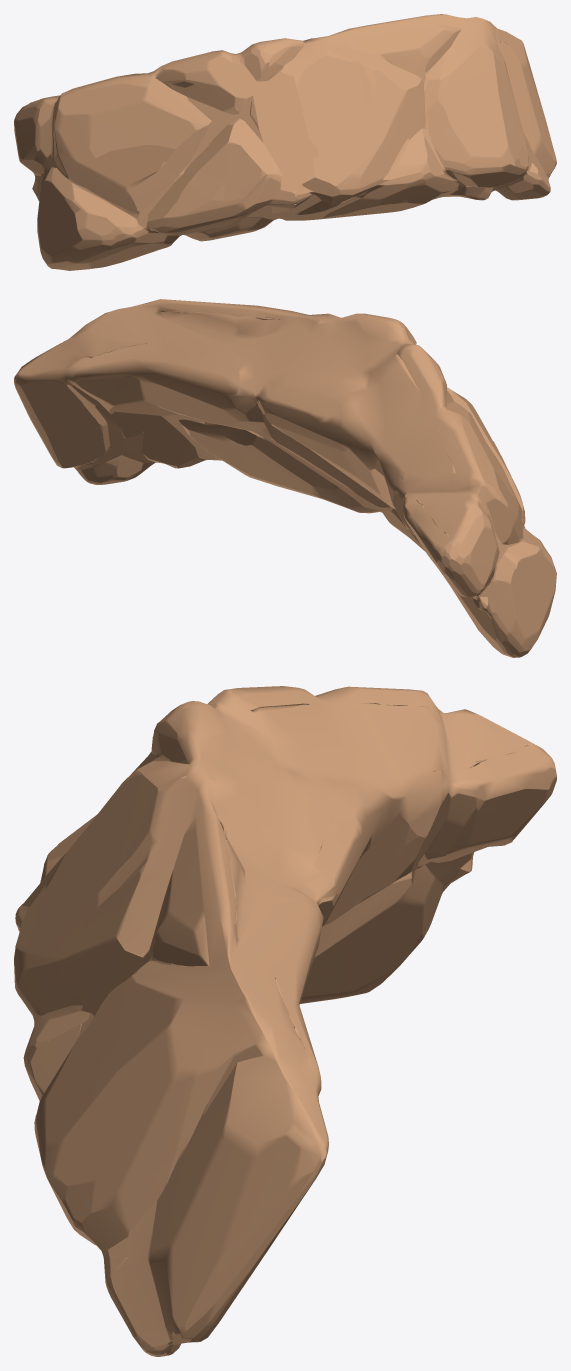
3 renders of one model, top to bottom at view 1: azimuth 30°, elevation 25°; view 2: azimuth 150°, elevation 25°; view 3: azimuth 270°, elevation 25°, orthographic. The views are drawn at different scales.
Visible parts, largest first — view 1: Mesh_28_LOD0; view 2: Mesh_28_LOD0; view 3: Mesh_28_LOD0.
Part boxes in pixels (<box>): Mesh_28_LOD0: <box>14,14,556,270</box>; Mesh_28_LOD0: <box>14,299,556,657</box>; Mesh_28_LOD0: <box>14,686,556,1356</box>.
Size of what is drawn, in the model's own units: 3442 by 1566 by 1835.
